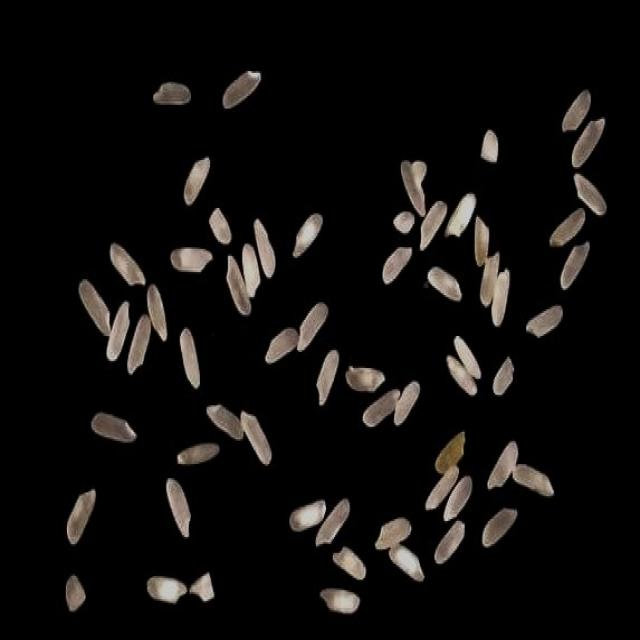Broken: (436, 430, 466, 472), (492, 357, 514, 396), (209, 208, 232, 245), (189, 572, 215, 602), (66, 574, 86, 612), (475, 216, 489, 267), (481, 130, 498, 162), (394, 211, 414, 234), (412, 160, 427, 187)
Full: (79, 280, 111, 337), (315, 497, 351, 547), (572, 118, 606, 169), (242, 410, 272, 466), (67, 488, 97, 544), (487, 441, 519, 492), (127, 314, 152, 376), (298, 302, 329, 352), (110, 242, 145, 286), (226, 255, 251, 316), (106, 301, 131, 362), (222, 70, 262, 108), (549, 207, 586, 248), (167, 476, 191, 539), (426, 464, 458, 511), (362, 388, 400, 427), (560, 241, 590, 290), (482, 508, 518, 548), (401, 160, 426, 217), (92, 411, 136, 443), (434, 521, 466, 565), (444, 193, 476, 237), (206, 404, 244, 441), (513, 463, 554, 497), (574, 174, 607, 216), (443, 476, 473, 522), (253, 218, 276, 278), (389, 544, 425, 582), (420, 200, 447, 250), (316, 351, 339, 407), (293, 215, 322, 259), (184, 157, 211, 204), (562, 90, 592, 132), (180, 328, 201, 388), (526, 304, 563, 338), (147, 283, 168, 342), (446, 355, 476, 396), (428, 266, 462, 302), (265, 327, 298, 364), (454, 336, 482, 379), (394, 380, 420, 426), (290, 500, 327, 532), (491, 268, 511, 327), (382, 246, 412, 285), (147, 575, 187, 604), (375, 517, 411, 549), (333, 546, 366, 580), (170, 247, 213, 273), (480, 252, 499, 308), (242, 243, 261, 298), (320, 589, 361, 614), (346, 366, 385, 392), (177, 442, 220, 465), (153, 83, 191, 105)
